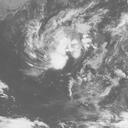cyclone: (24, 16, 76, 70)
